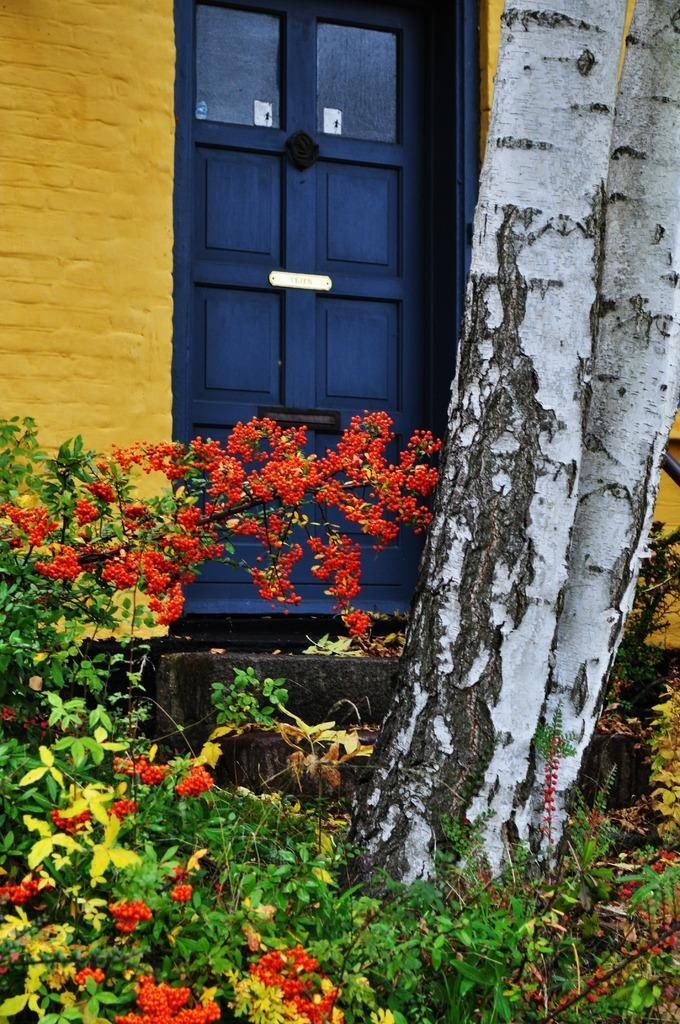door: (193, 32, 421, 598)
